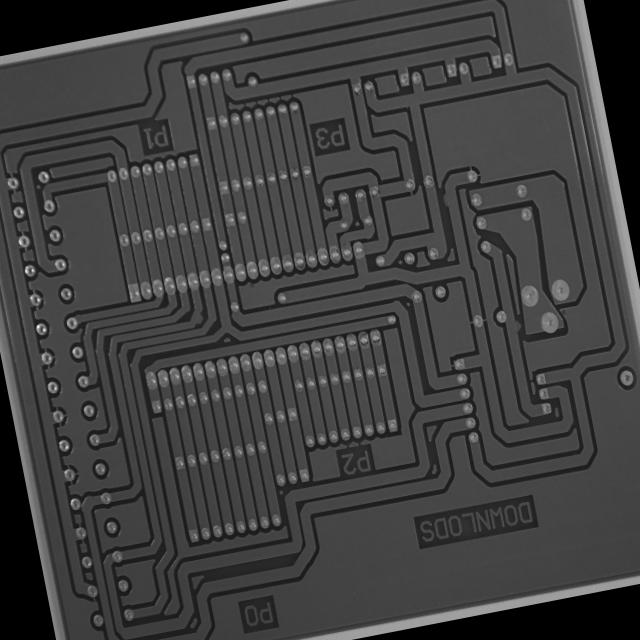spur: (507, 314, 526, 340), (188, 306, 207, 330), (438, 188, 455, 213)
